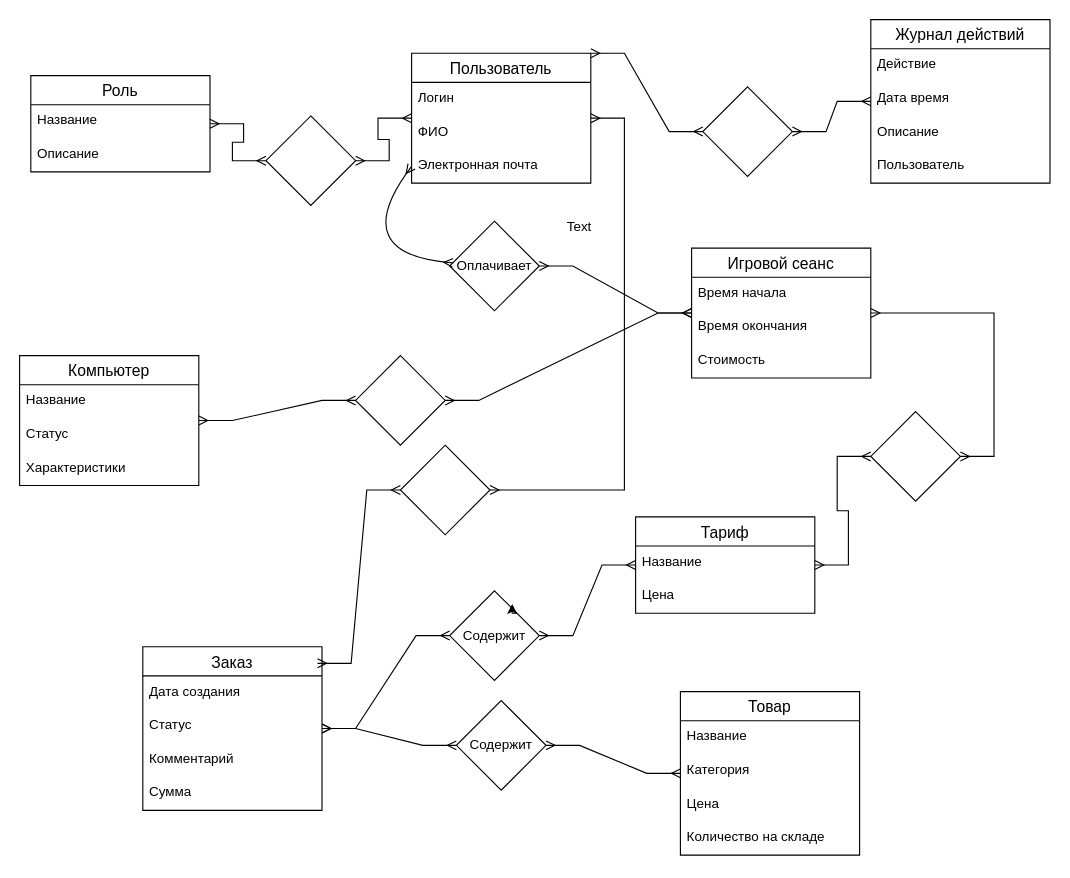
This 1070x878 diagram has some shape labels left out. Each missing label, with the centre of its shape:
Зависит: point (915, 455)
Используется: point (399, 399)
Назначается: point (310, 160)
Создает: point (444, 489)
Хранит: point (747, 131)
